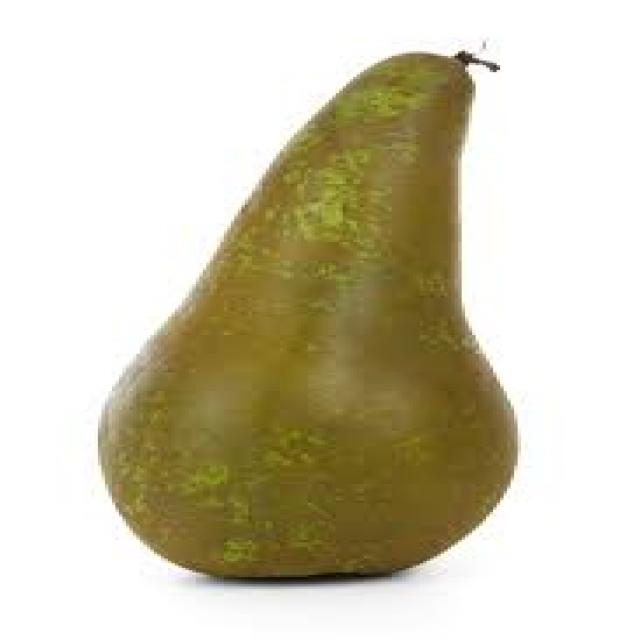organic waste: (91, 49, 521, 577)
